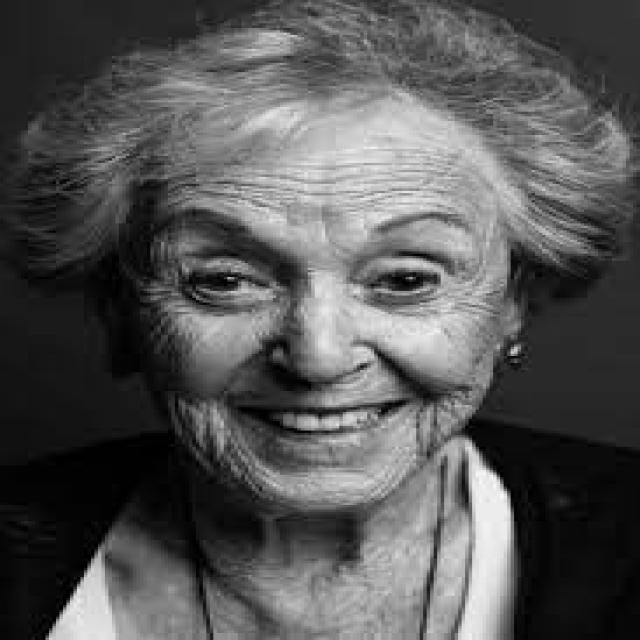Wrinkles: (144, 142, 509, 231), (383, 248, 503, 372), (164, 387, 279, 501), (135, 256, 207, 377), (411, 385, 475, 465)
